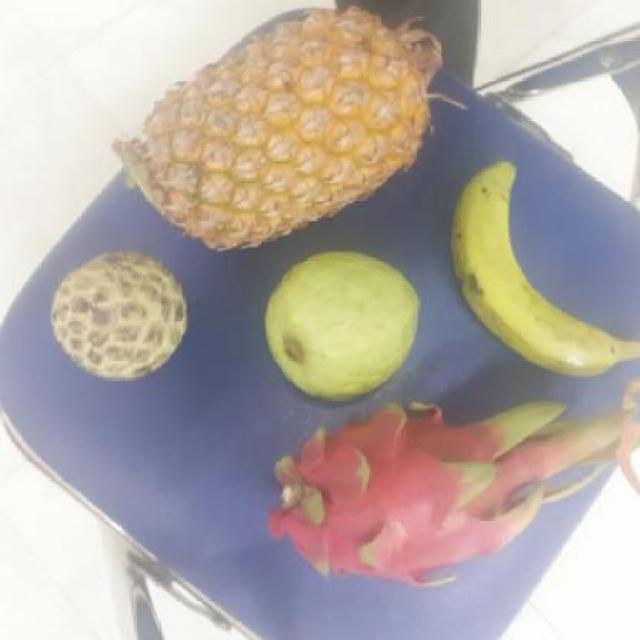banana: (450, 161, 636, 381)
dragon fruit: (270, 398, 552, 587)
guava: (266, 255, 423, 400)
pineapple: (128, 9, 428, 249)
sugar apple: (53, 254, 193, 378)
